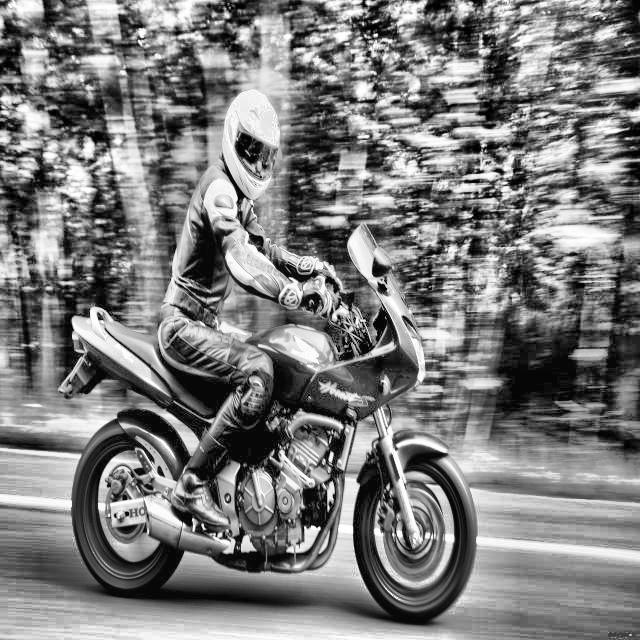Helmet: (220, 85, 282, 205)
